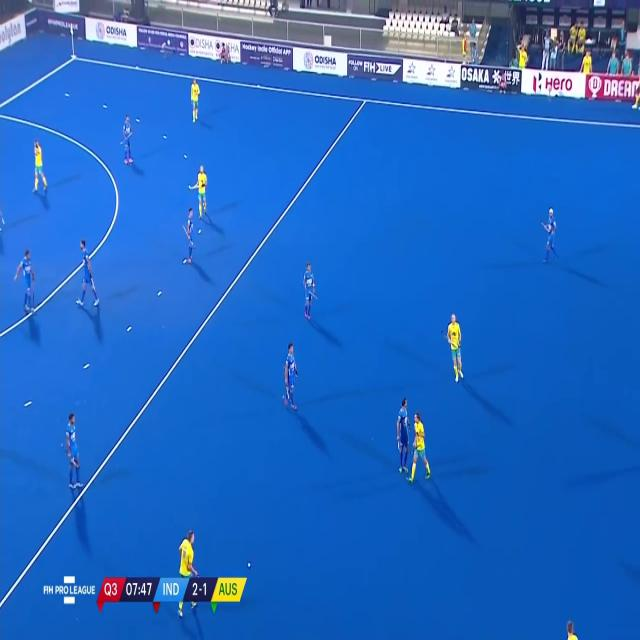ball: (246, 559, 253, 570)
